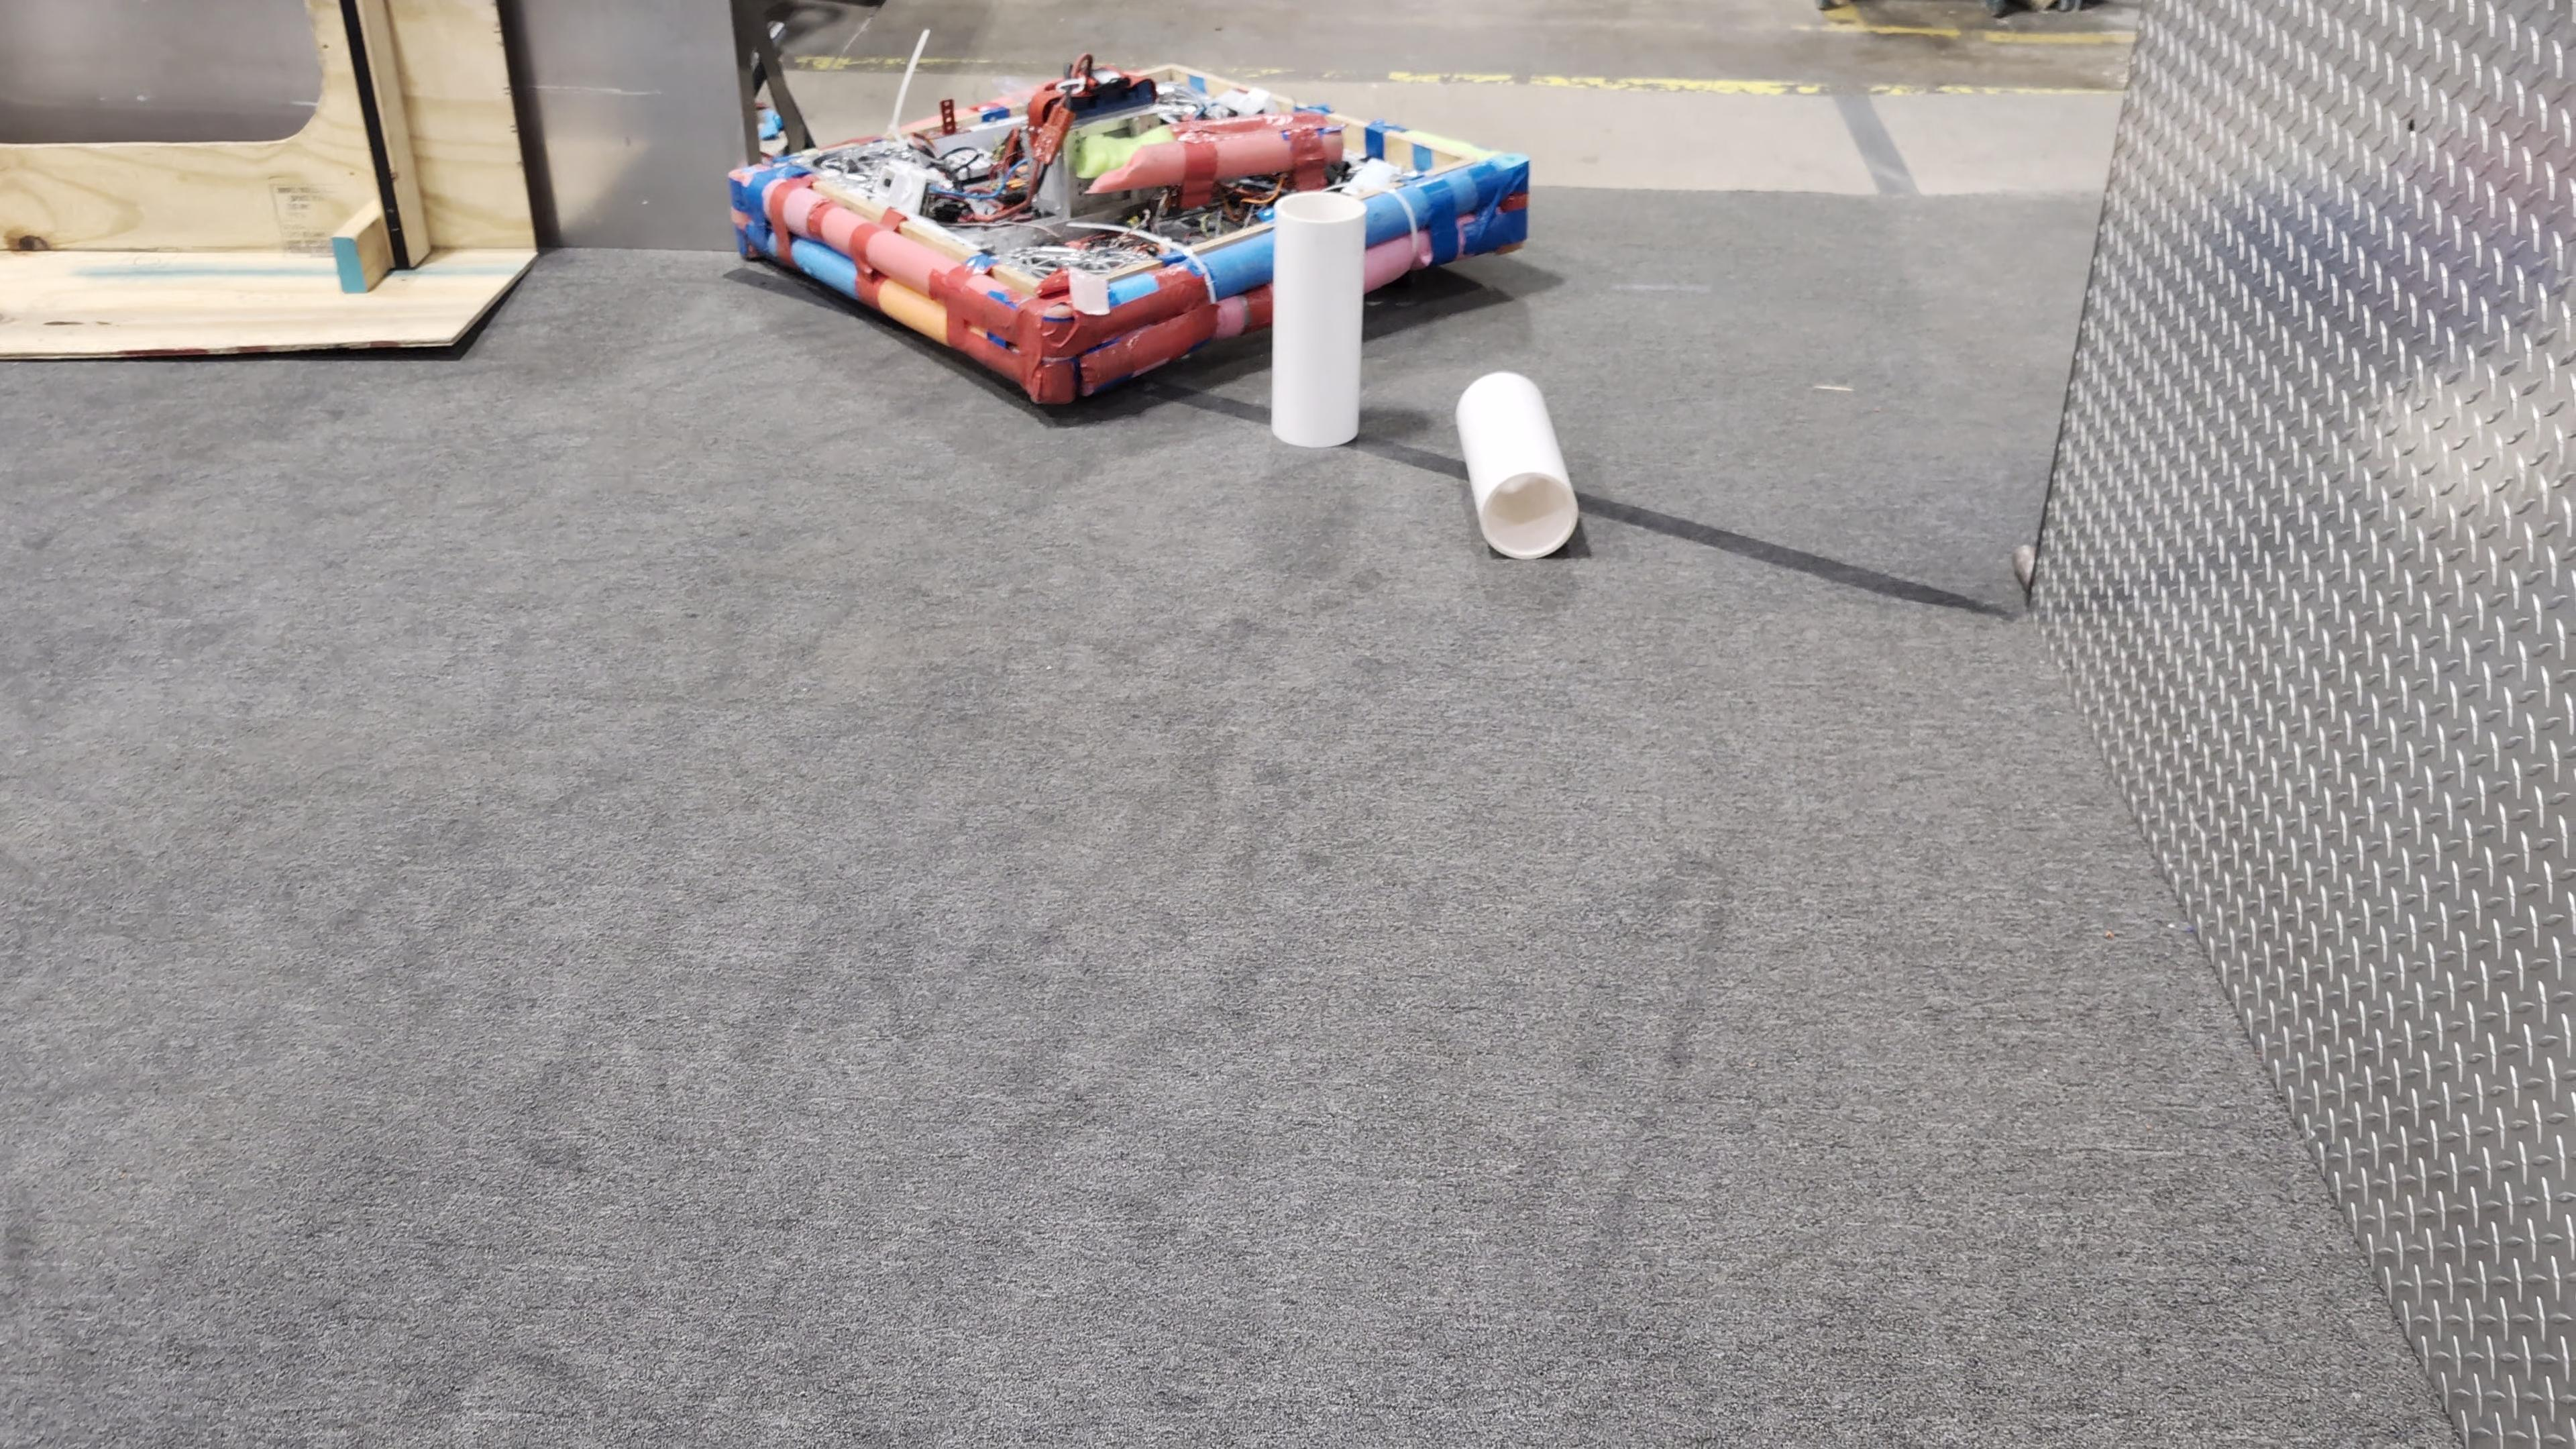coral: (1265, 191, 1369, 448), (1458, 372, 1580, 559)
